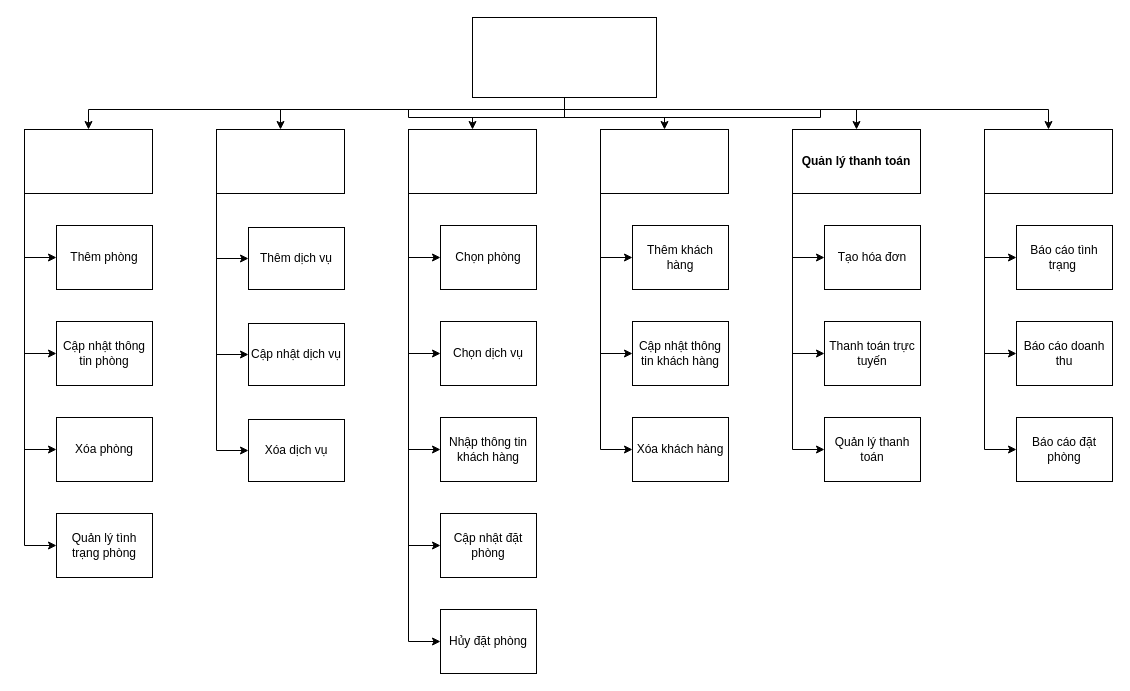
The diagram is 1130 pixels wide and 691 high, and some of its shapes have lost their labels. Each missing label, with the box of its shape:
Báo cáo thống kê: (984, 128, 1112, 194)
Quản lý dịch vụ: (216, 128, 344, 194)
Quản lý khách hàng: (600, 128, 728, 194)
Quản lý phòng: (24, 128, 152, 194)
Quản lý thông tin đặt phòng khách sạn: (472, 16, 656, 98)
Quản lý đặt phòng: (408, 128, 536, 194)
